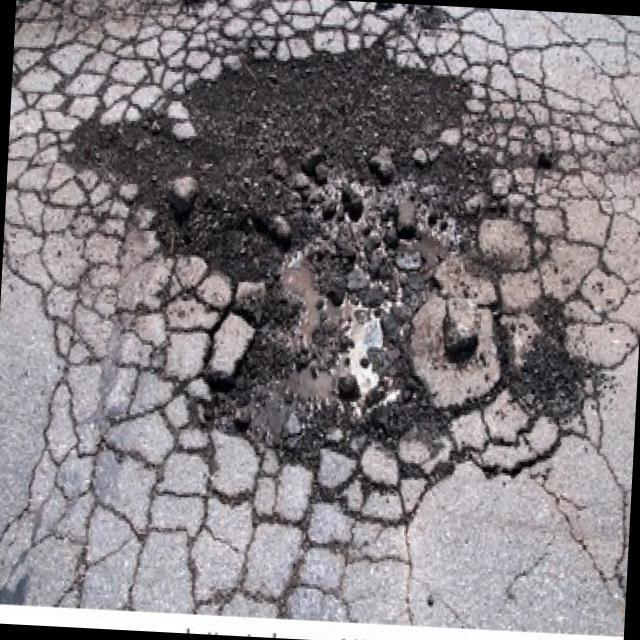pothole: (50, 26, 522, 483)
